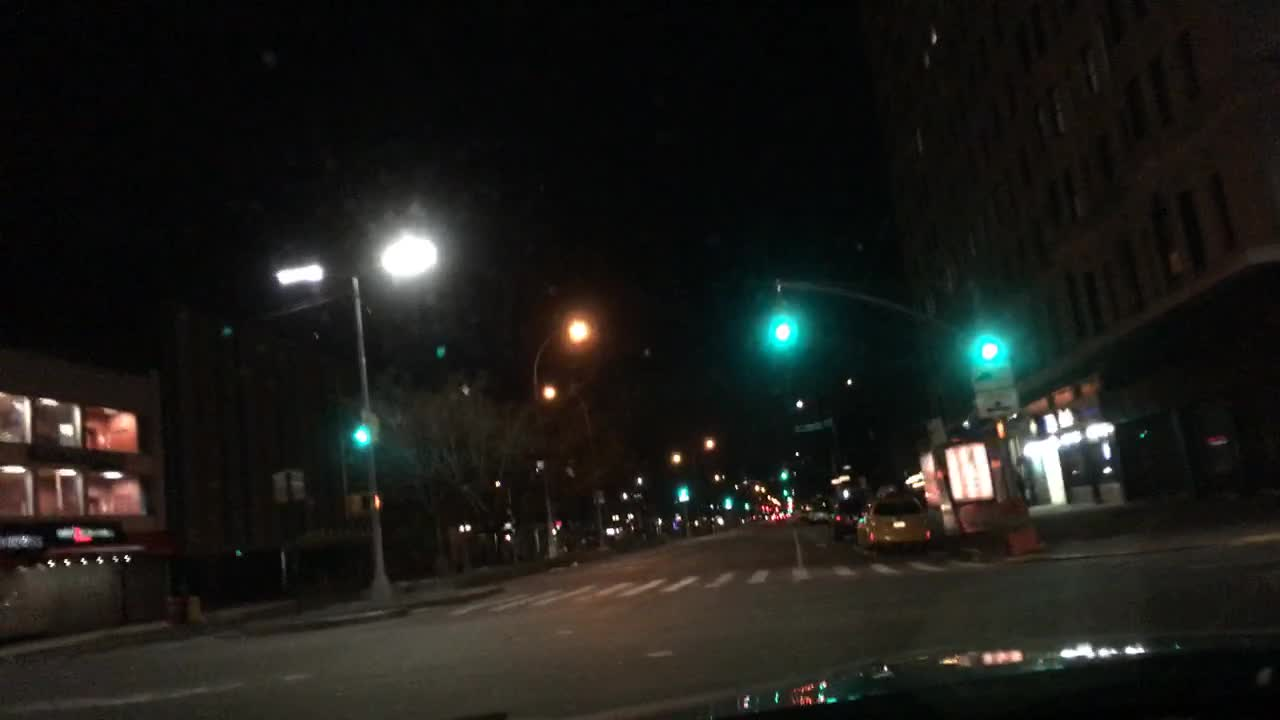car: (853, 490, 934, 548), (825, 498, 872, 541), (803, 501, 831, 525), (776, 509, 788, 523), (749, 510, 764, 521), (796, 509, 809, 521), (740, 513, 752, 525), (759, 511, 770, 523), (772, 511, 782, 522), (766, 511, 775, 523)
traffic light: (977, 332, 1000, 371), (772, 307, 790, 346), (348, 421, 372, 450), (347, 489, 372, 515), (367, 492, 383, 515), (675, 486, 689, 502), (721, 494, 735, 510), (779, 468, 789, 482), (781, 489, 788, 497)
traffic sign: (967, 354, 1016, 392), (969, 387, 1020, 418), (270, 469, 308, 504), (793, 414, 836, 436)
